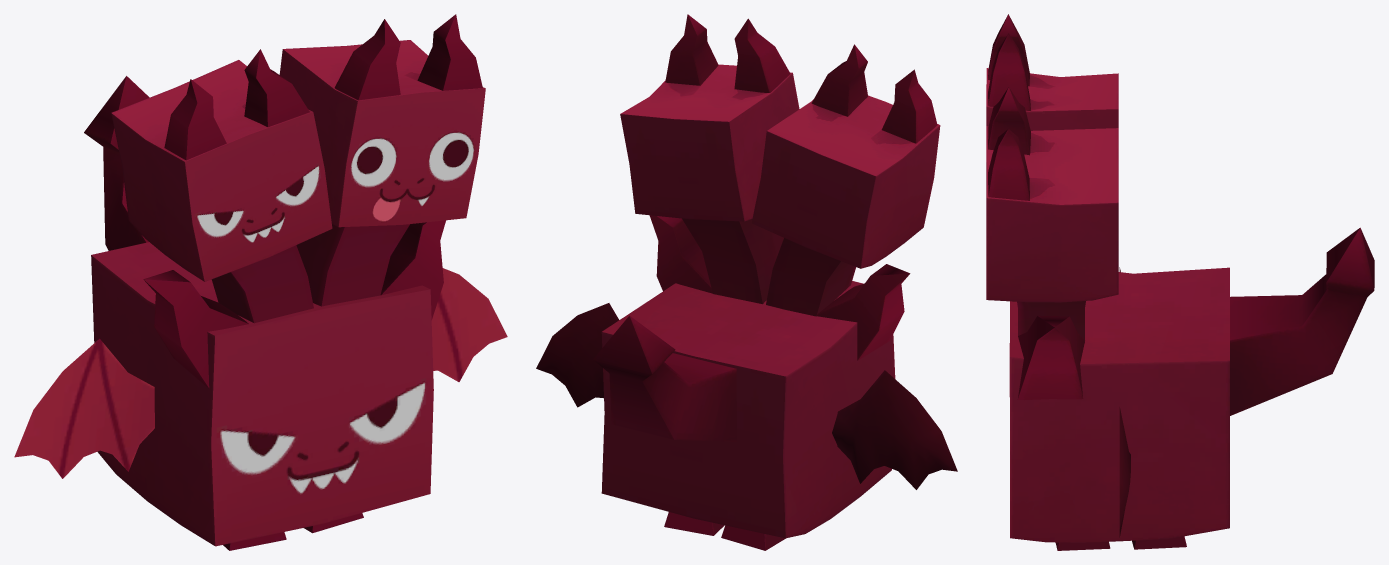
File: pets_157.fbx
The picture shows the model from 3 angles, left to right: view 1: azimuth 30°, elevation 25°; view 2: azimuth 150°, elevation 25°; view 3: azimuth 270°, elevation 25°; orthographic projection. The views are drawn at different scales.
Visible parts, largest first — view 1: Pets.157; view 2: Pets.157; view 3: Pets.157.
Boxes of the visible parts, x1,y1,x2,y2 form: Pets.157: (14, 14, 507, 550); Pets.157: (536, 14, 957, 550); Pets.157: (986, 14, 1374, 550).
Size of the model in its own units: 0.8975 by 0.691 by 0.905.
